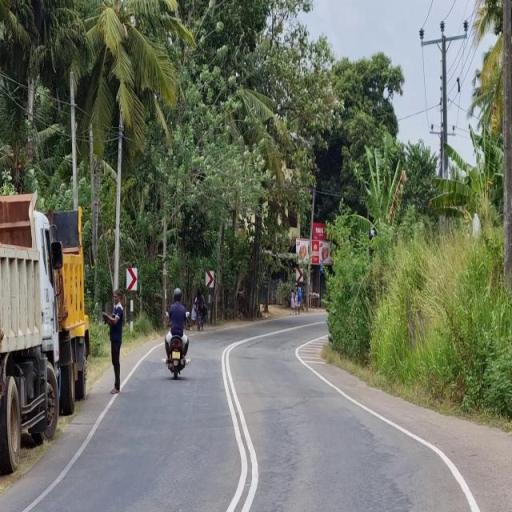double_white_line: (219, 338, 261, 512)
